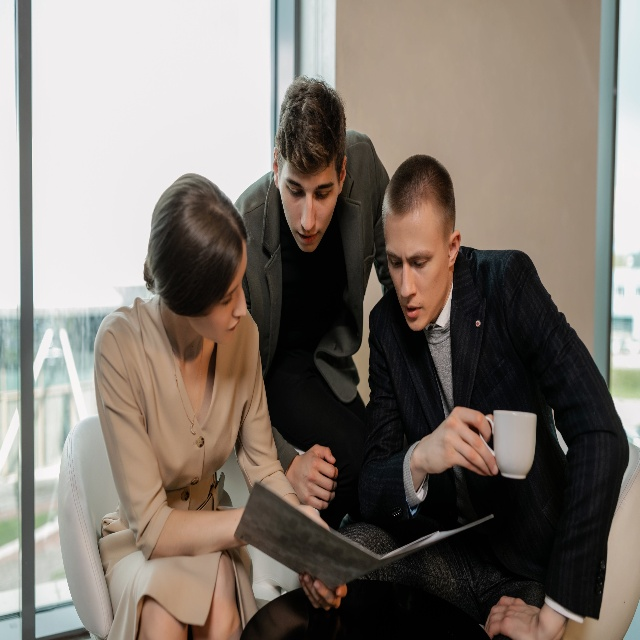Sin_guantes: (418, 405, 499, 477), (289, 442, 338, 509), (483, 592, 539, 640), (297, 570, 348, 610)
